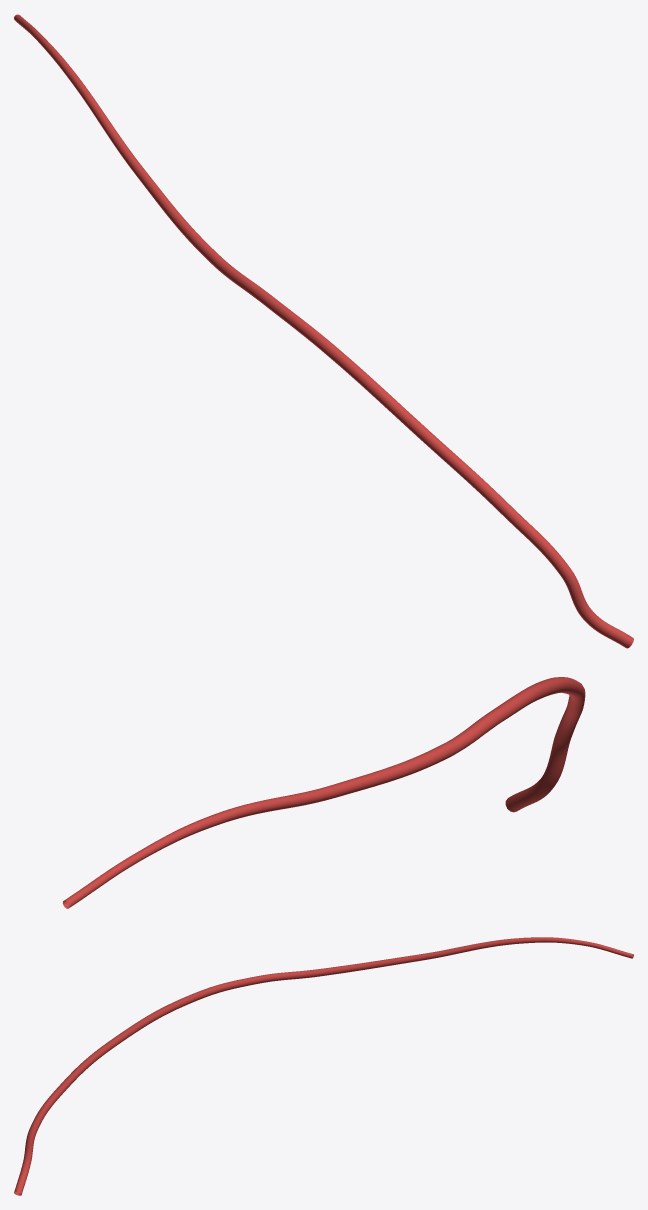
3 views of the same model, one above another, from view 1: azimuth 30°, elevation 25°; view 2: azimuth 150°, elevation 25°; view 3: azimuth 270°, elevation 25° (orthographic). The views are drawn at different scales.
Parts seen in each view (by area): view 1: 左侧颈横动脉浅支; view 2: 左侧颈横动脉浅支; view 3: 左侧颈横动脉浅支.
Boxes of the visible parts, bbox=[...] form: 左侧颈横动脉浅支: bbox=[14, 14, 633, 648]; 左侧颈横动脉浅支: bbox=[63, 677, 585, 908]; 左侧颈横动脉浅支: bbox=[14, 937, 633, 1195].
Size of the model in its own units: 0.0434 by 0.0719 by 0.1922.
